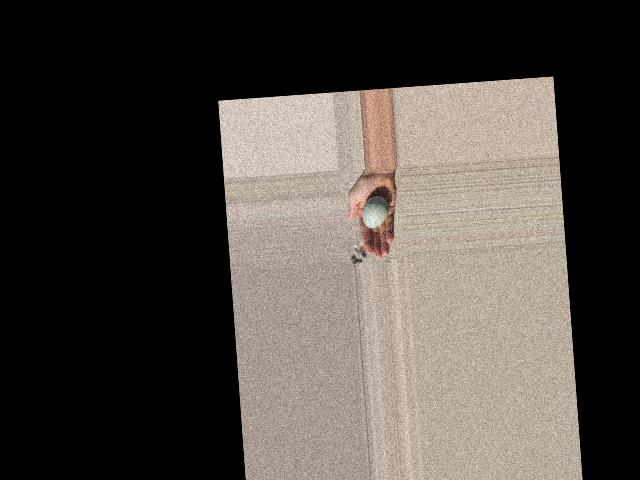egg: (362, 195, 390, 228)
